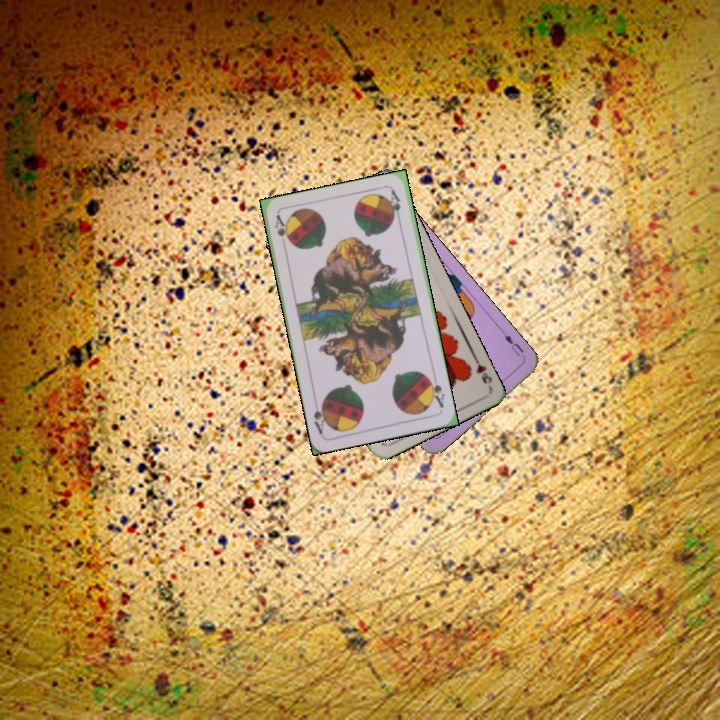EU: (498, 327, 526, 359)
H9: (469, 352, 495, 390)
SA: (424, 371, 447, 410), (271, 211, 292, 251)
